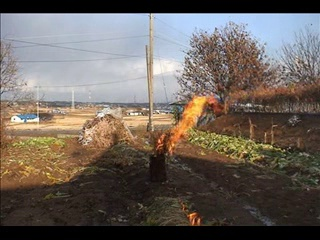fire: (154, 94, 212, 154), (179, 196, 212, 226)
